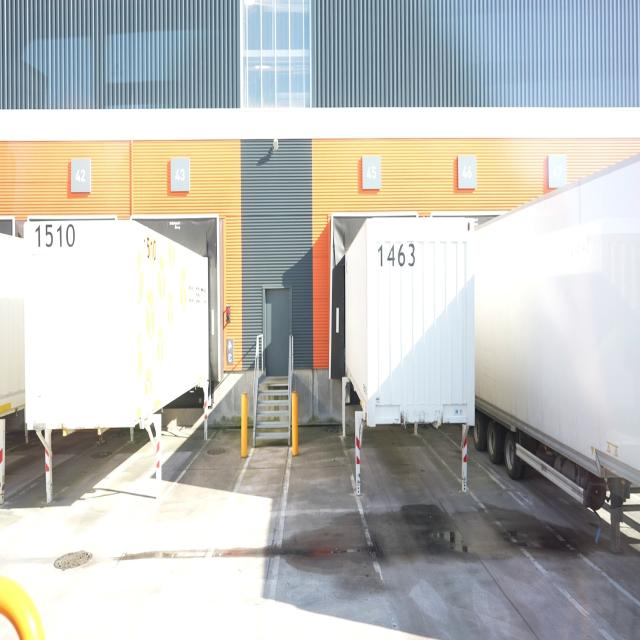Code: (34, 218, 77, 254), (376, 240, 421, 270)
